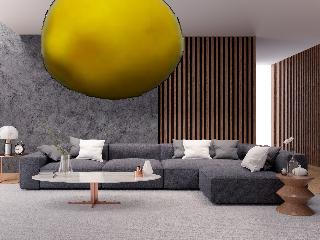lemon: (42, 0, 184, 101)
